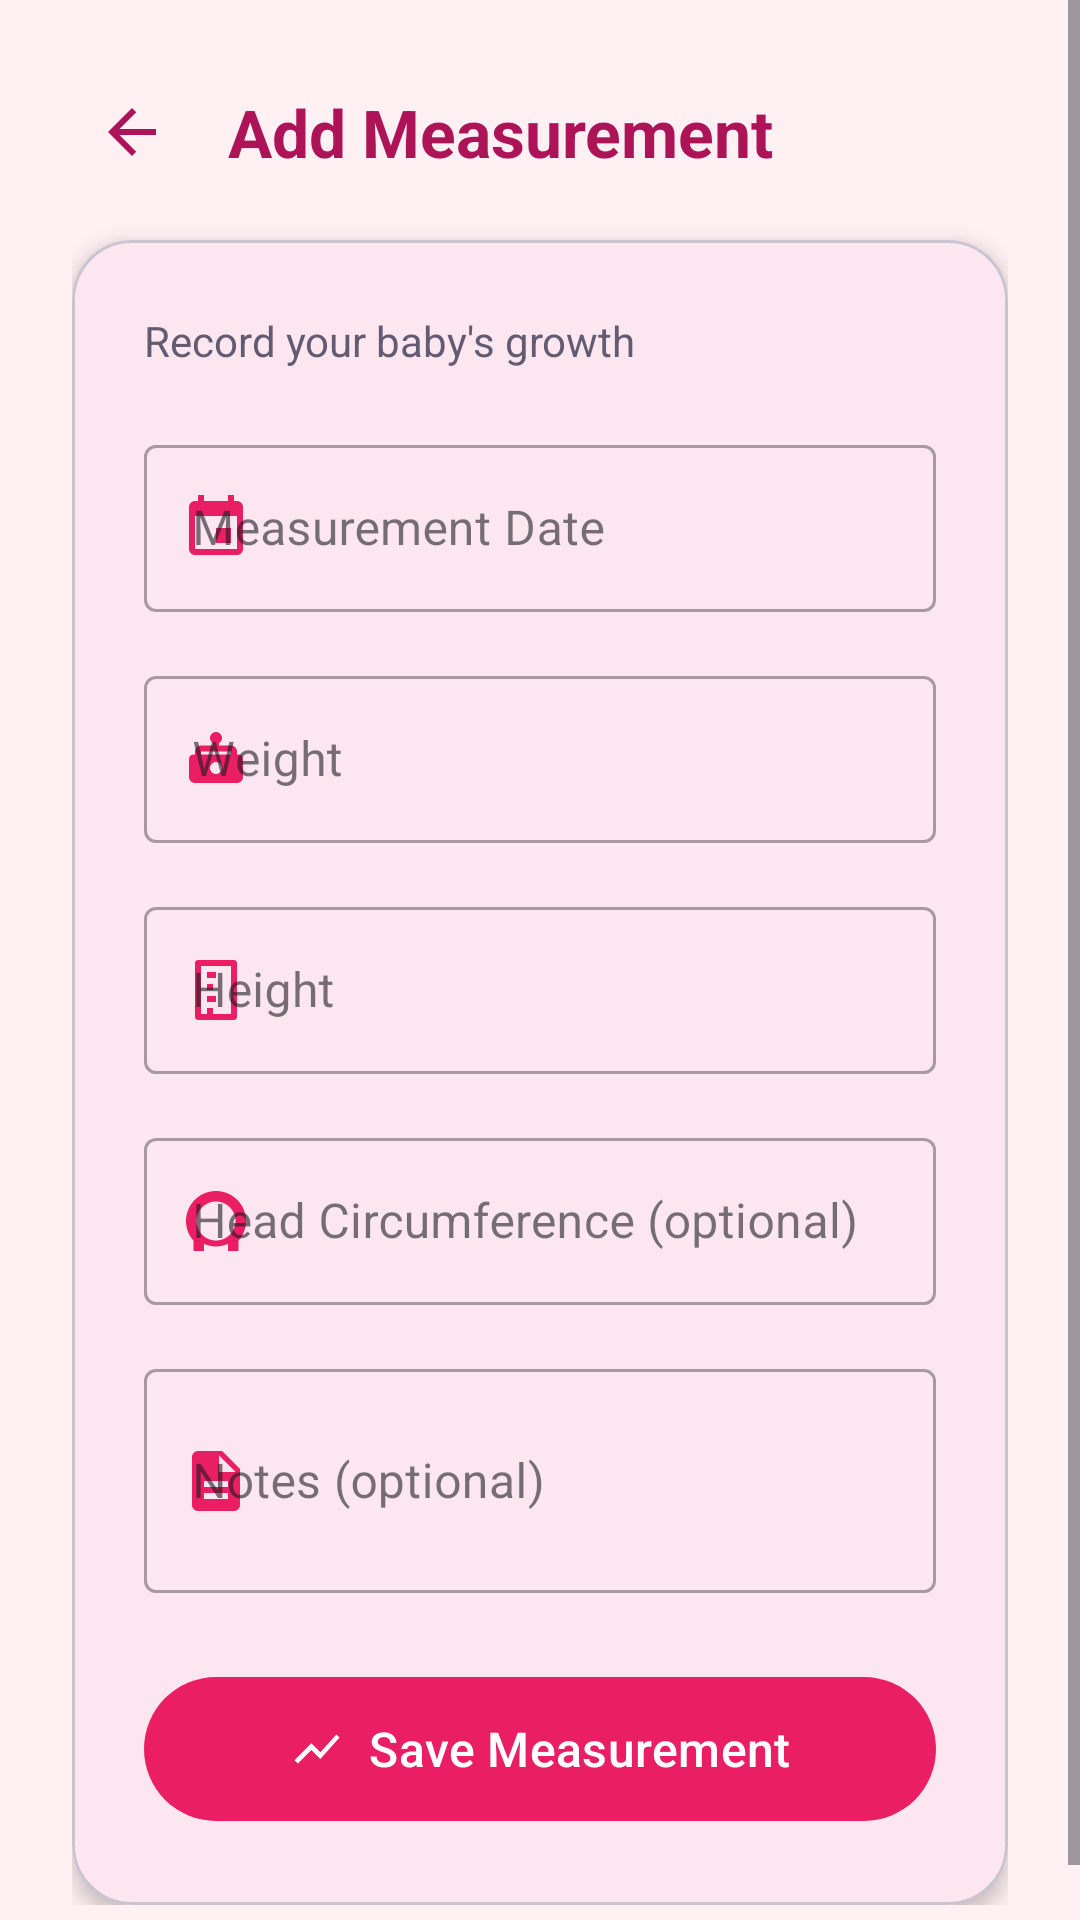

Where to tap for icons on this 1080px×1920px app screen, as point (x, y):
Navigate back: point (132, 132)
